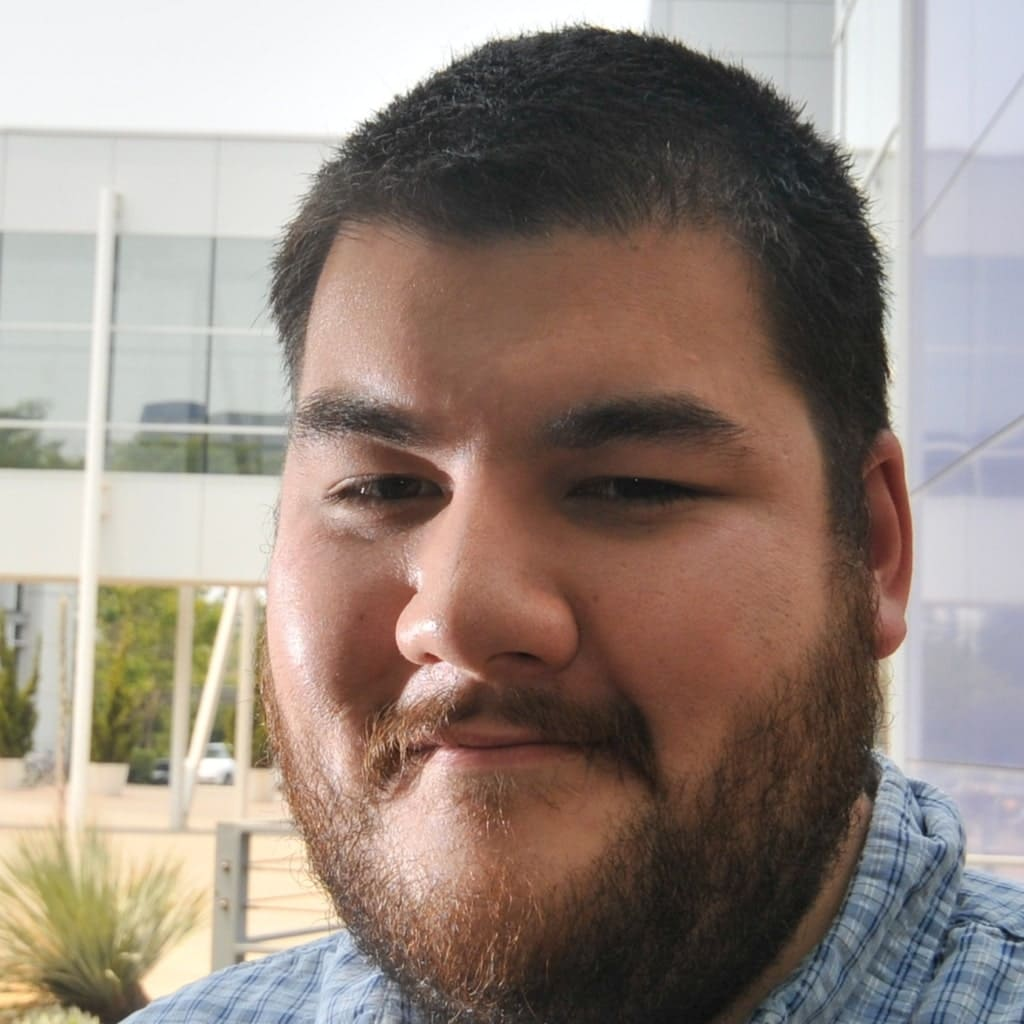without_mask: (277, 205, 817, 976)
